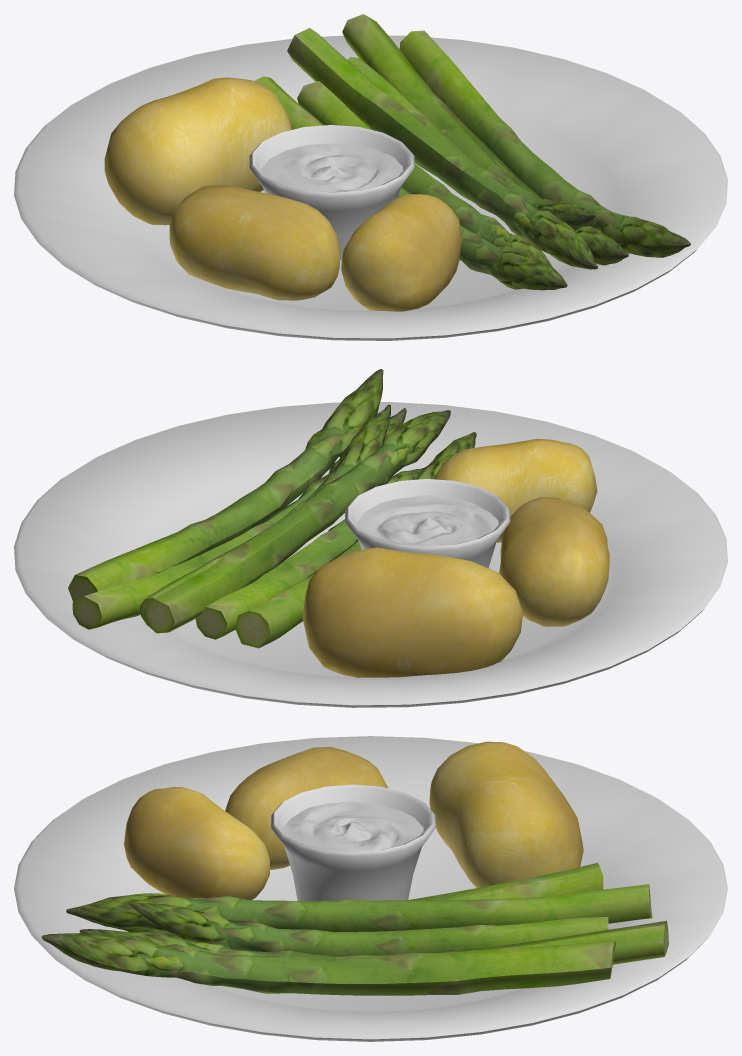
The model's file is AsparagusPotatos_Separate.fbx.
3 renders of one model, top to bottom at view 1: azimuth 30°, elevation 25°; view 2: azimuth 150°, elevation 25°; view 3: azimuth 270°, elevation 25°, orthographic.
Visible parts, largest first — view 1: AsparagusPotatos_Separate; view 2: AsparagusPotatos_Separate; view 3: AsparagusPotatos_Separate.
Part boxes in pixels (x1=…): AsparagusPotatos_Separate: x1=14, y1=14, x2=727, y2=340; AsparagusPotatos_Separate: x1=14, y1=369, x2=727, y2=707; AsparagusPotatos_Separate: x1=14, y1=736, x2=727, y2=1041.
Size of the model in its own units: 27.95 by 5.49 by 27.95.
